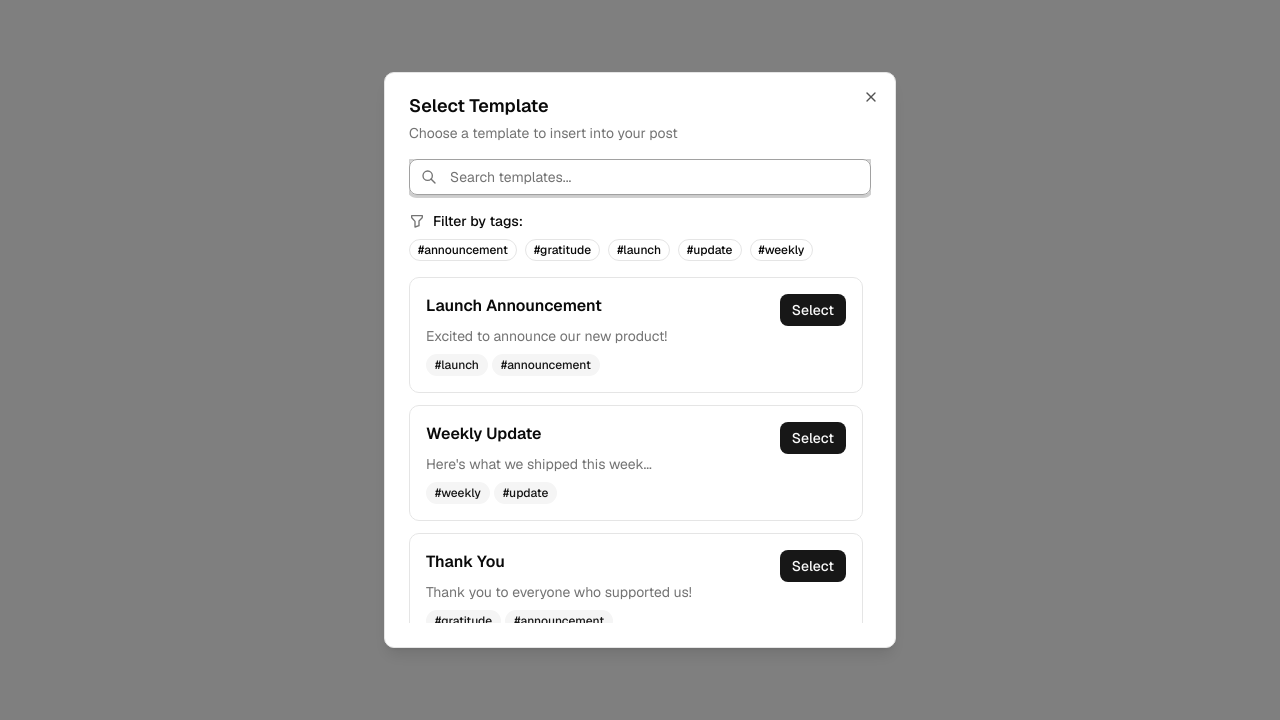
Scenario: TemplatePickerModal Component › Tag Filtering › filters templates by selected tag
The width and height of the screenshot is (1280, 720).
Note: Click on "announcement" tag
Click the text "#announcement" below "Filter by tags:" at (463, 250), box [409,239,517,261]
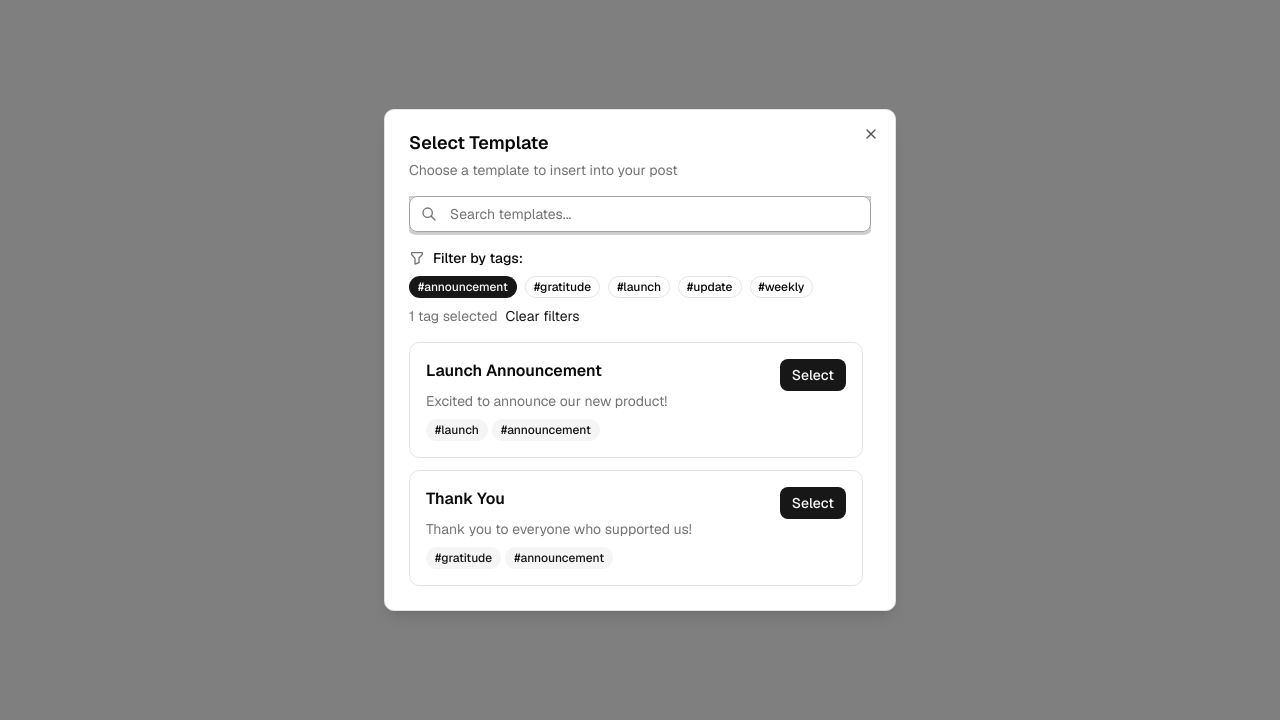
Expected: the heading "Launch Announcement" is shown, [426,360,602,381]
Now the heading "Weekly Update" is gone
